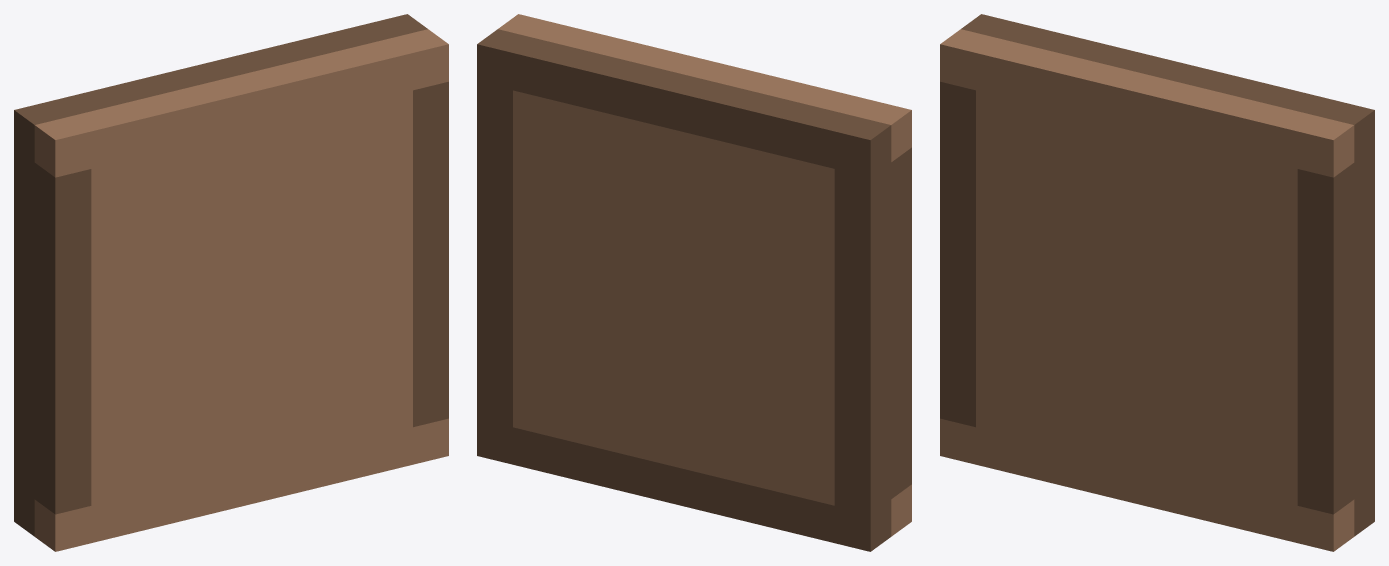
File: lampara_aceite_techo_oxidada_01.glb
3 views of the same model, side by side, from view 1: azimuth 30°, elevation 25°; view 2: azimuth 150°, elevation 25°; view 3: azimuth 330°, elevation 25° (orthographic).
Parts seen in each view (by area): view 1: lampara_aceite_techo_oxidada; view 2: lampara_aceite_techo_oxidada; view 3: lampara_aceite_techo_oxidada.
Boxes of the visible parts, <box> form: lampara_aceite_techo_oxidada: <box>14,14,448,551</box>; lampara_aceite_techo_oxidada: <box>477,14,911,551</box>; lampara_aceite_techo_oxidada: <box>940,14,1374,551</box>.
Bounding box in the file's own units: 1 × 1 × 0.1818.
